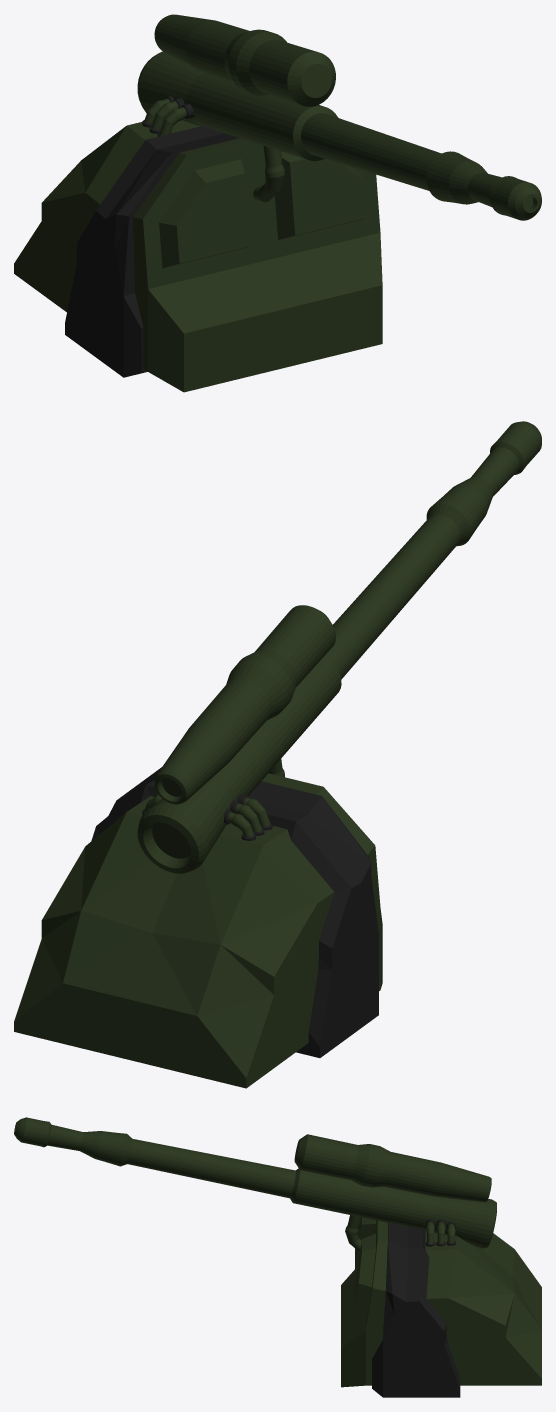
File: MashineGUN3.dae
3 views of the same model, one above another, from view 1: azimuth 30°, elevation 25°; view 2: azimuth 150°, elevation 25°; view 3: azimuth 270°, elevation 25° (orthographic). The views are drawn at different scales.
Parts seen in each view (by area): view 1: Cube, Cylinder, Cube.001, Cylinder.001, Cylinder.002, Cylinder.011, Cylinder.010; view 2: Cube, Cylinder, Cube.001, Cylinder.001; view 3: Cube, Cylinder, Cube.001, Cylinder.001, Cylinder.002.
Boxes of the visible parts, x1,y1,x2,y2 form: Cube: [14, 120, 382, 392]; Cylinder: [137, 51, 541, 220]; Cube.001: [65, 125, 239, 377]; Cylinder.001: [154, 14, 335, 106]; Cylinder.002: [253, 146, 284, 202]; Cylinder.011: [157, 103, 194, 136]; Cylinder.010: [149, 98, 184, 133]; Cube: [14, 773, 382, 1088]; Cylinder: [137, 421, 541, 873]; Cube.001: [91, 767, 378, 1057]; Cylinder.001: [154, 605, 335, 804]; Cube: [341, 1217, 541, 1387]; Cylinder: [14, 1117, 496, 1248]; Cube.001: [372, 1223, 460, 1397]; Cylinder.001: [294, 1134, 491, 1202]; Cylinder.002: [345, 1215, 361, 1251].
Size of the model in its own units: 2.2 by 6 by 2.98.
